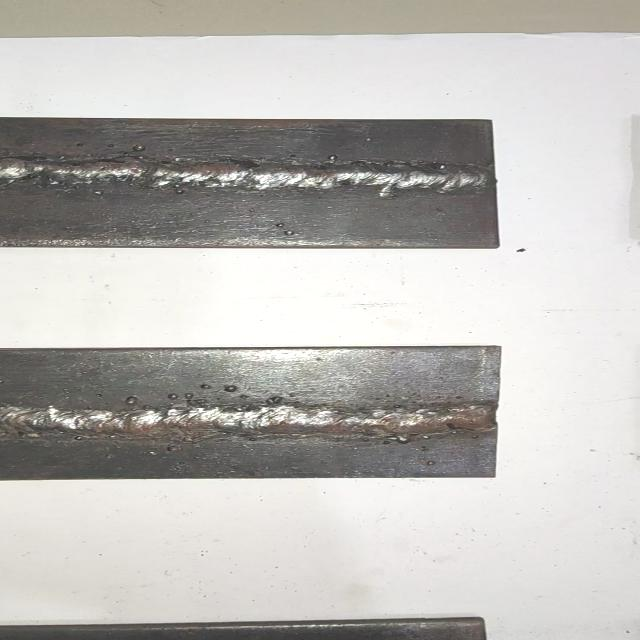Good Weld: (0, 403, 495, 440), (0, 161, 492, 189)
